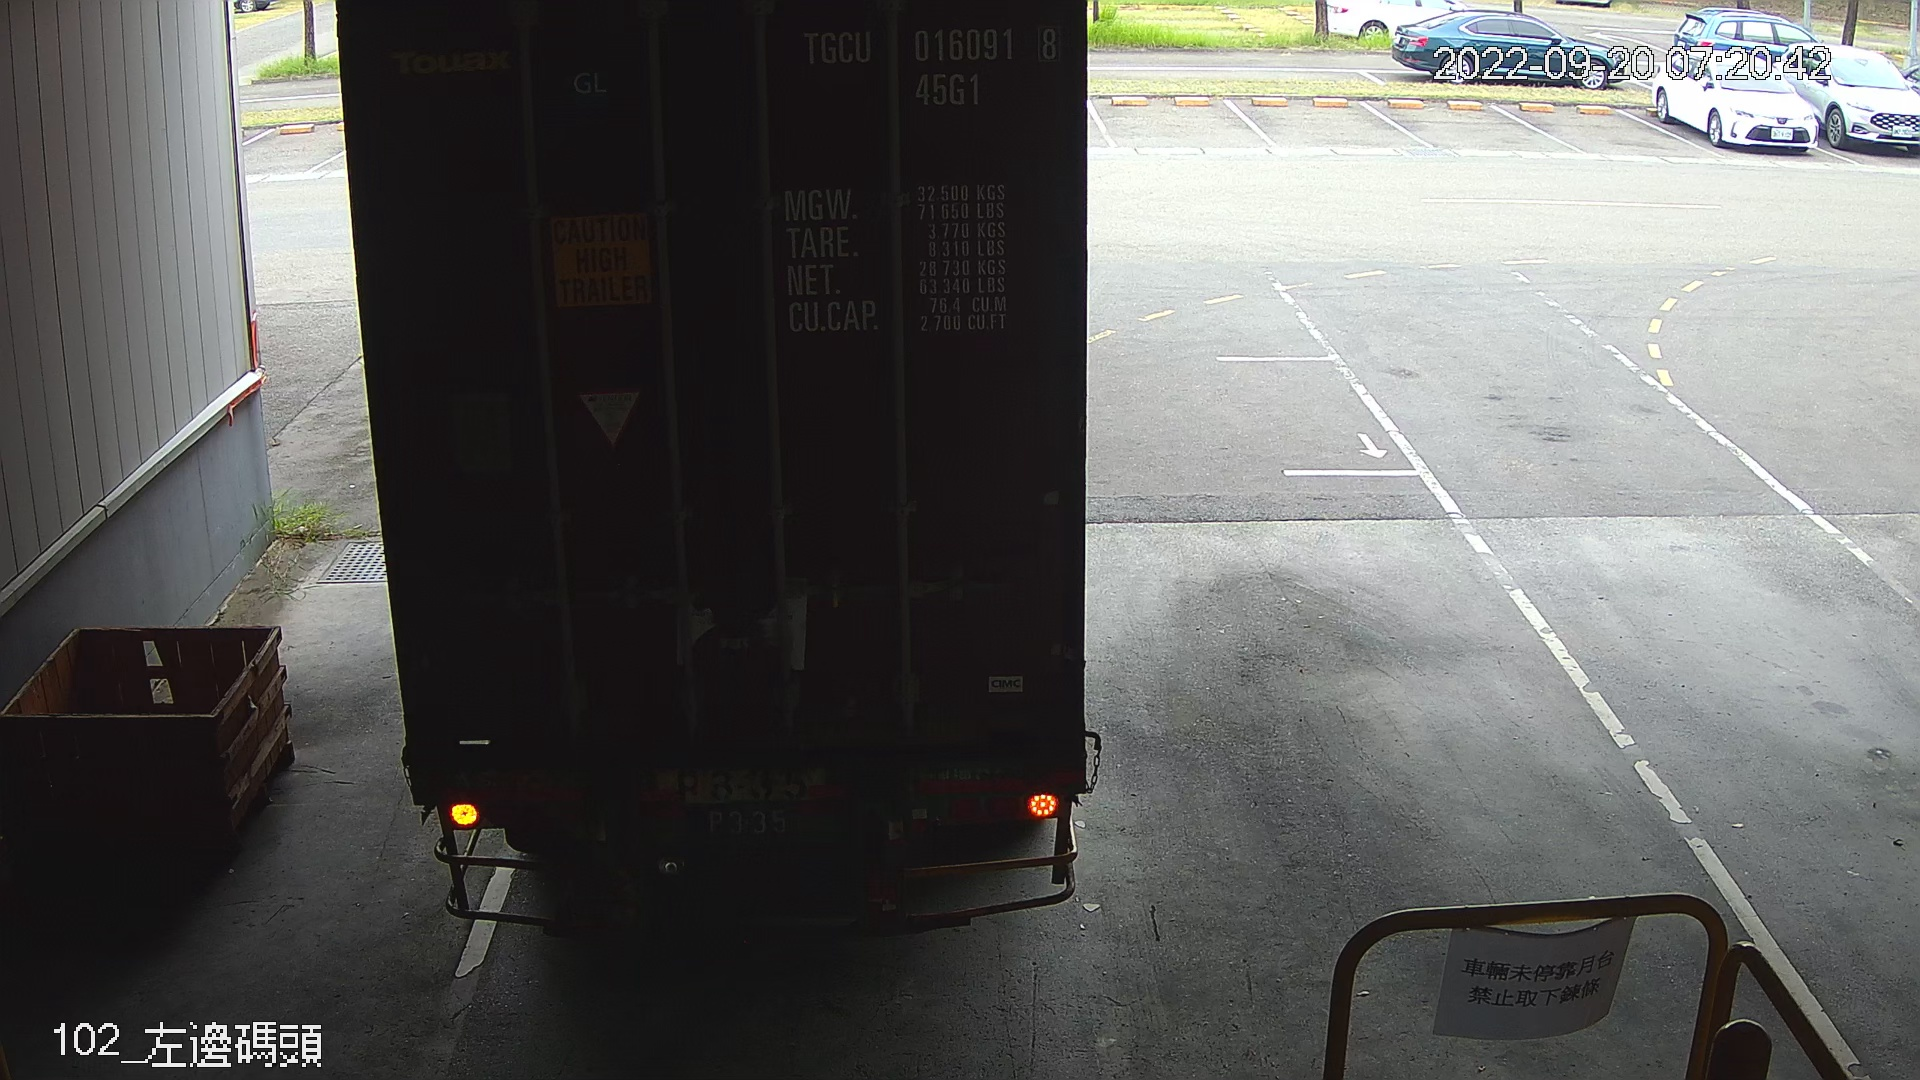container: (791, 18, 1069, 116)
